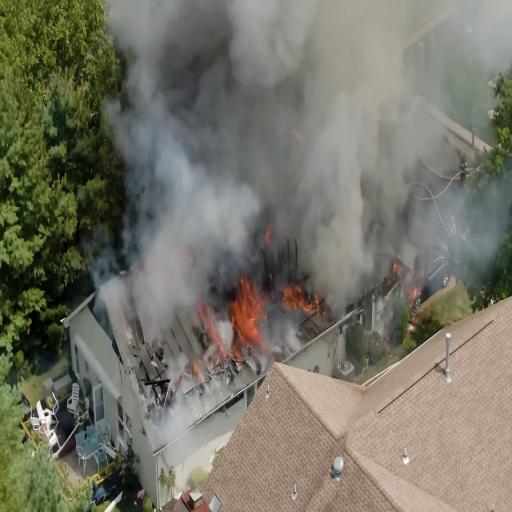fire: (234, 271, 260, 348)
smoke: (133, 0, 276, 253), (287, 0, 366, 287)
